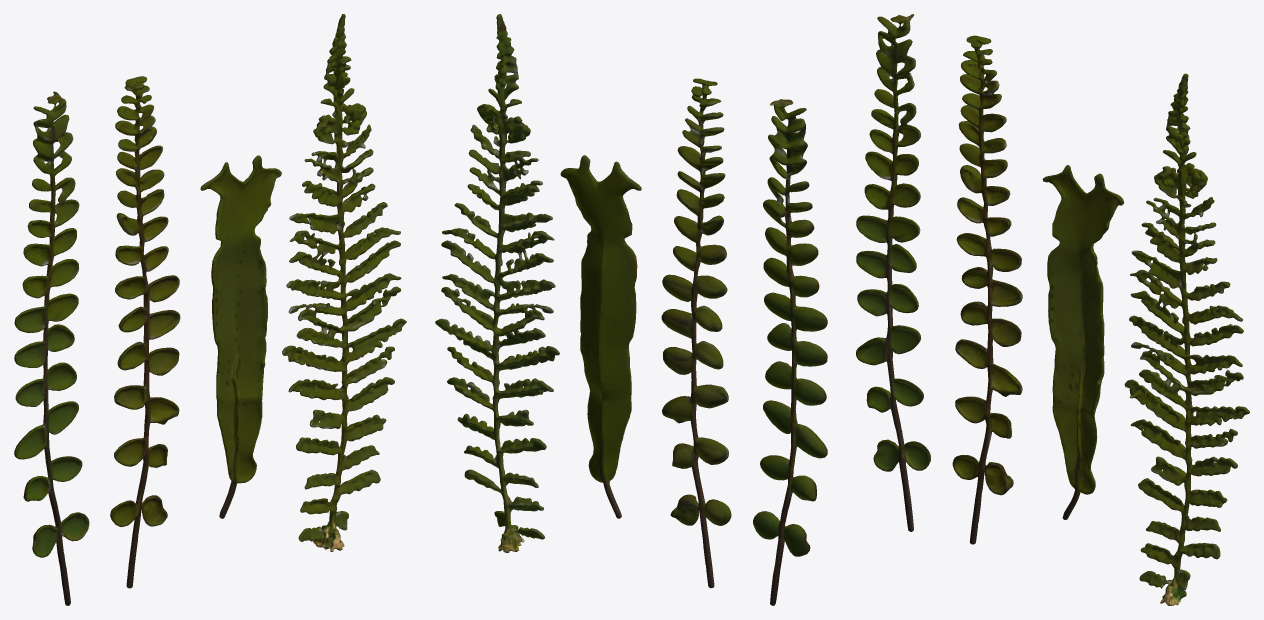
The model's file is creek-fern.glb.
The picture shows the model from 3 angles, left to right: view 1: azimuth 30°, elevation 25°; view 2: azimuth 150°, elevation 25°; view 3: azimuth 330°, elevation 25°; orthographic projection.
Parts seen in each view (by area): view 1: geometry_0; view 2: geometry_0; view 3: geometry_0.
Boxes of the visible parts, x1,y1,x2,y2 form: geometry_0: [14, 14, 406, 605]; geometry_0: [435, 14, 827, 605]; geometry_0: [856, 14, 1249, 605].
Bounding box in the file's own units: 0.6 × 0.7752 × 0.0453.
1 material, 1 textured.
